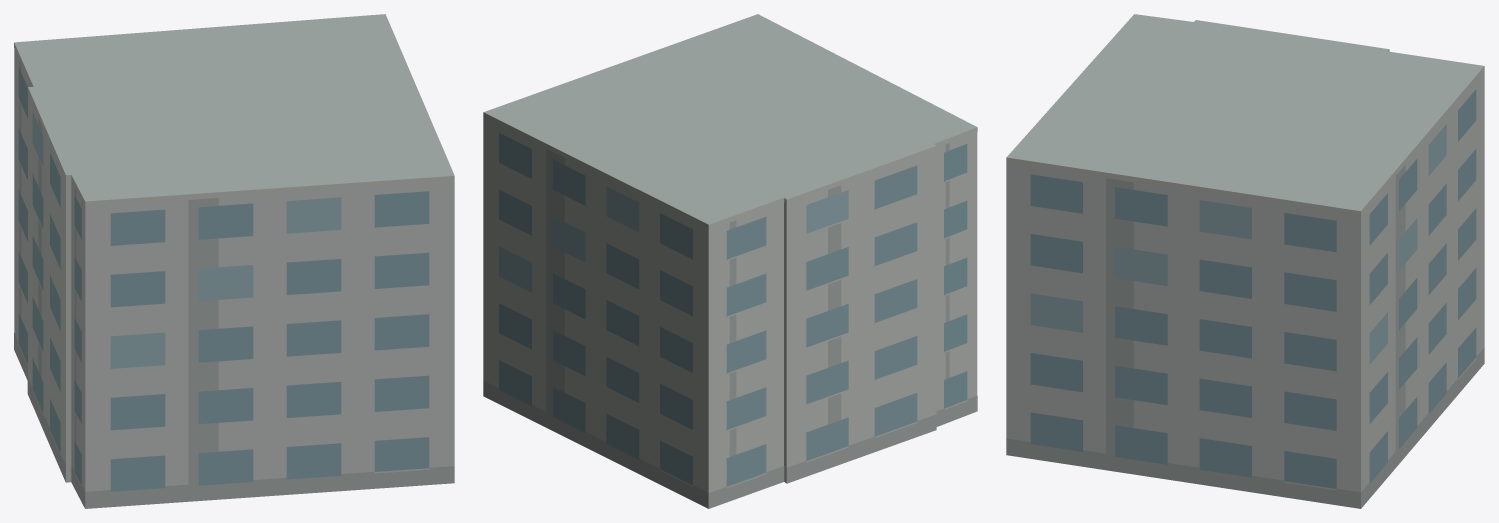
File: survey-upis-32887494.glb
3 views of the same model, side by side, from view 1: azimuth 30°, elevation 25°; view 2: azimuth 150°, elevation 25°; view 3: azimuth 270°, elevation 25° (orthographic). The views are drawn at different scales.
Parts seen in each view (by area): view 1: survey-upis-32887494.tmp; view 2: survey-upis-32887494.tmp; view 3: survey-upis-32887494.tmp.
Boxes of the visible parts, <box> form: survey-upis-32887494.tmp: <box>14,14,454,508</box>; survey-upis-32887494.tmp: <box>483,14,977,508</box>; survey-upis-32887494.tmp: <box>1006,14,1484,508</box>.
Size of the model in its own units: 18.91 by 13.3 by 19.37.
